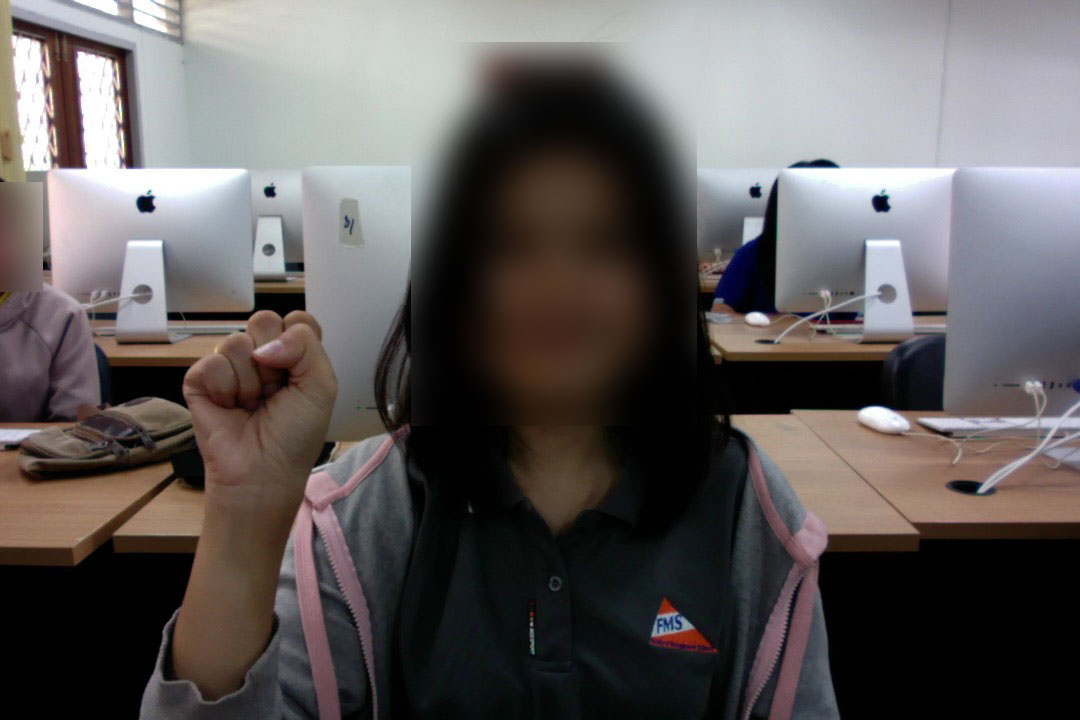sor: (168, 300, 345, 512)
